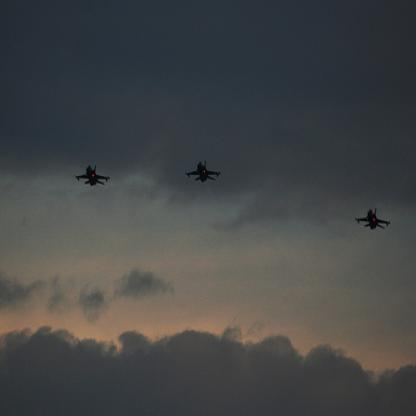aeroplane: (354, 202, 390, 232), (186, 156, 221, 185), (74, 162, 110, 188)
